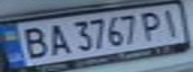3: (69, 17, 93, 52)
6: (106, 12, 127, 47)
7: (118, 11, 142, 44), (87, 16, 109, 50)
A: (42, 20, 72, 56)
B: (15, 24, 51, 60)
I: (157, 6, 187, 37)
P: (136, 9, 169, 40)
